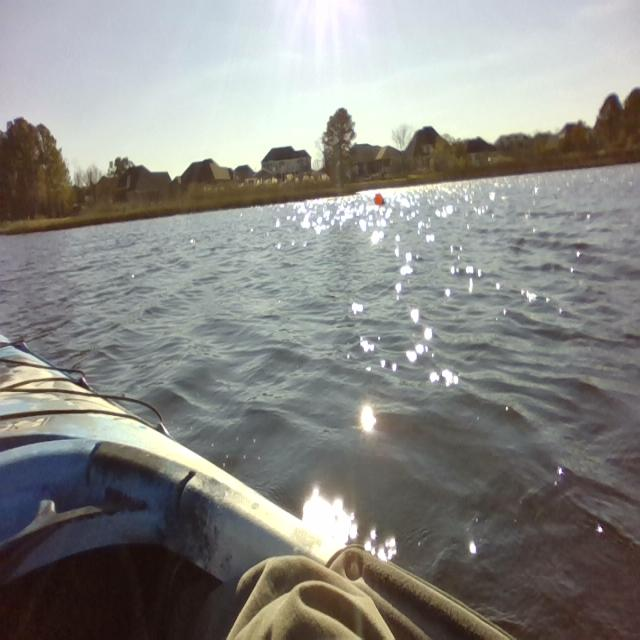Buoy: (370, 186, 388, 213)
